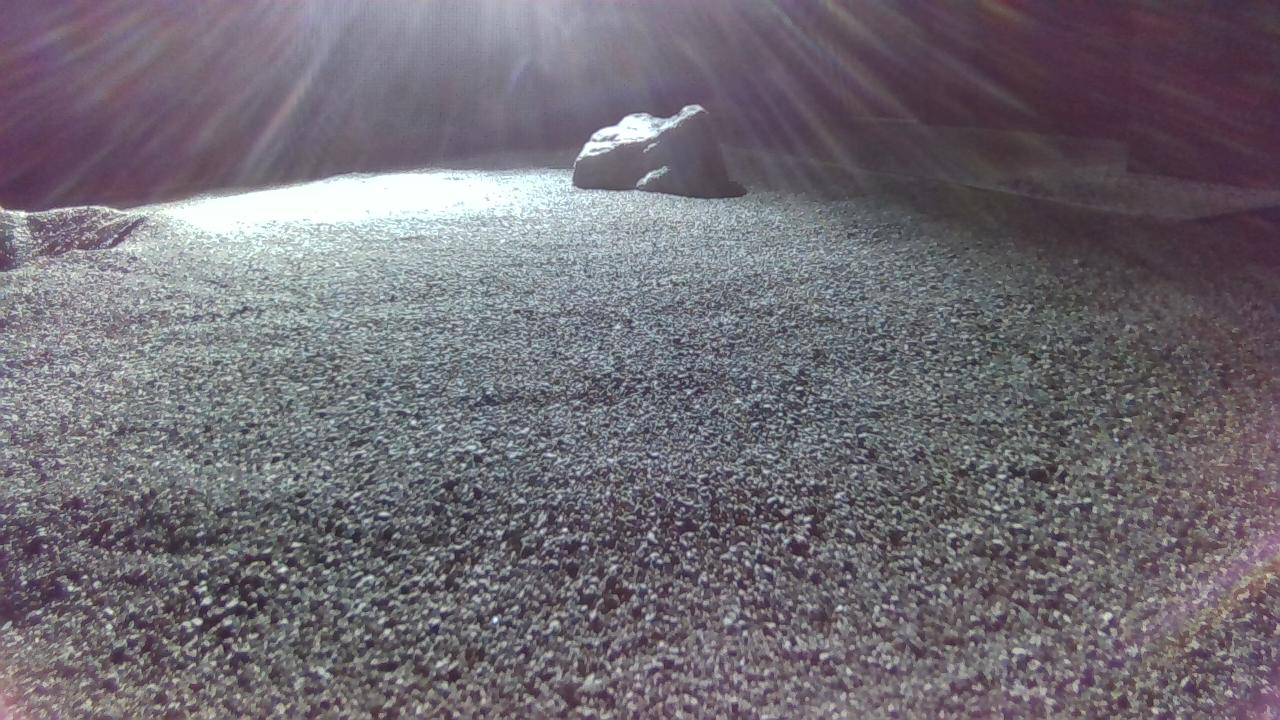rock: (573, 103, 730, 198)
